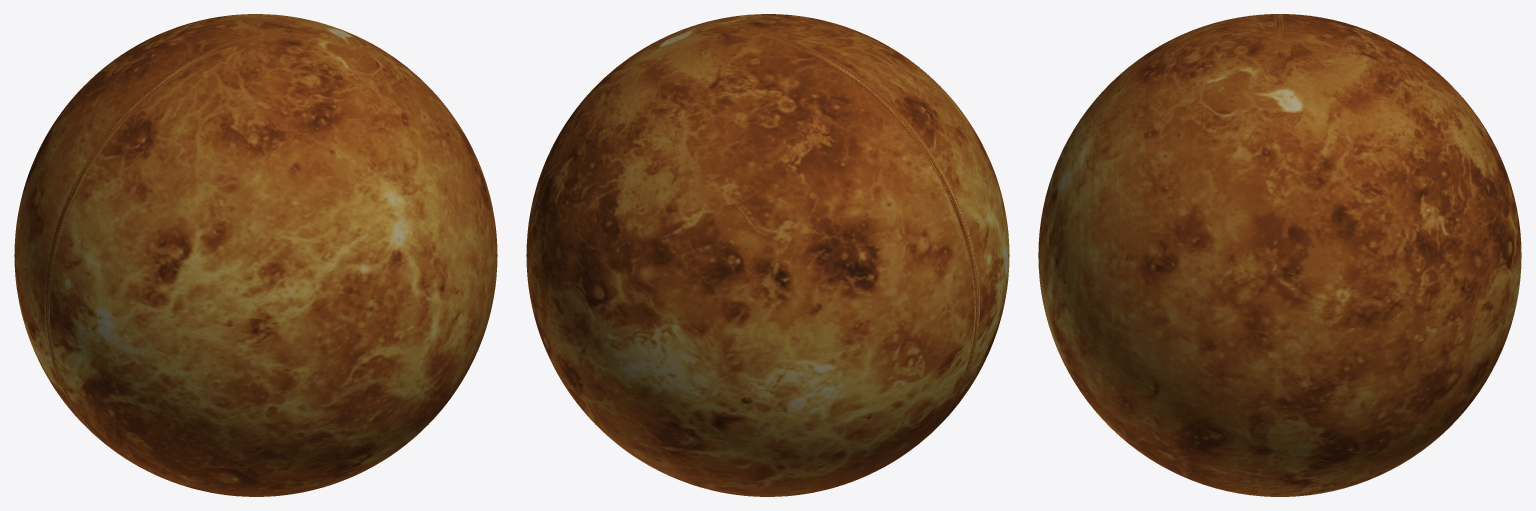
File: venus.gltf
3 renders of one model, left to right at view 1: azimuth 30°, elevation 25°; view 2: azimuth 150°, elevation 25°; view 3: azimuth 270°, elevation 25°, orthographic.
Visible parts, largest first — view 1: world; view 2: world; view 3: world.
Part boxes in pixels (x1,y1,x2,y2): world: [14, 14, 497, 496]; world: [526, 14, 1009, 496]; world: [1038, 14, 1521, 496].
Bounding box in the file's own units: 2 × 2 × 2.
1 material, 1 textured.
